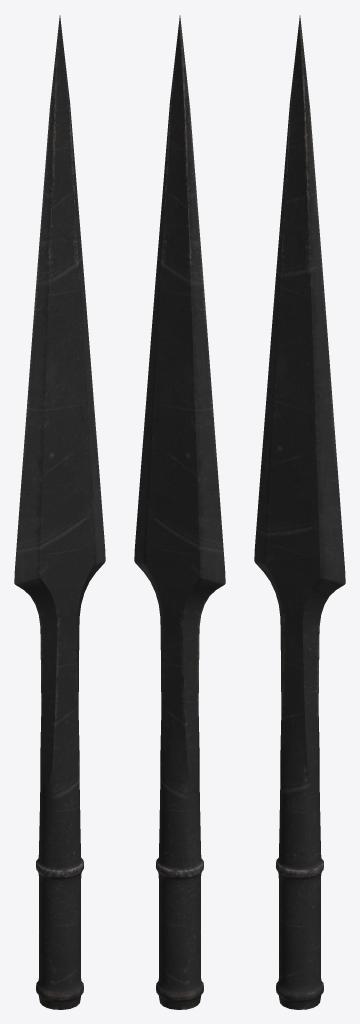
The model's file is wm_isengard_1h_pike_b01_blade.fbx.
The picture shows the model from 3 angles, left to right: view 1: azimuth 30°, elevation 25°; view 2: azimuth 150°, elevation 25°; view 3: azimuth 330°, elevation 25°; orthographic projection.
Parts seen in each view (by area): view 1: wm_isengard_1h_pike_b01_blade; view 2: wm_isengard_1h_pike_b01_blade; view 3: wm_isengard_1h_pike_b01_blade.
Boxes of the visible parts, box(x1,y1,x2,y2) form: wm_isengard_1h_pike_b01_blade: box(14, 15, 105, 1009); wm_isengard_1h_pike_b01_blade: box(134, 15, 225, 1009); wm_isengard_1h_pike_b01_blade: box(254, 15, 345, 1009).
Size of the model in its own units: 0.1041 by 0.0481 by 1.08.
Materials: 1 (1 with a texture image).
